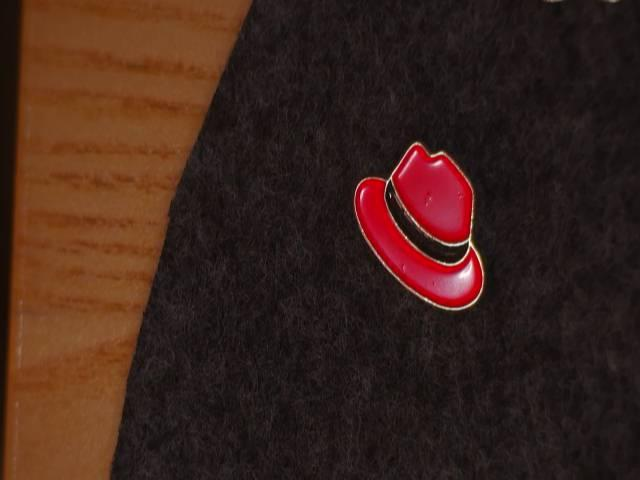Red-Hat: (325, 120, 523, 345)
